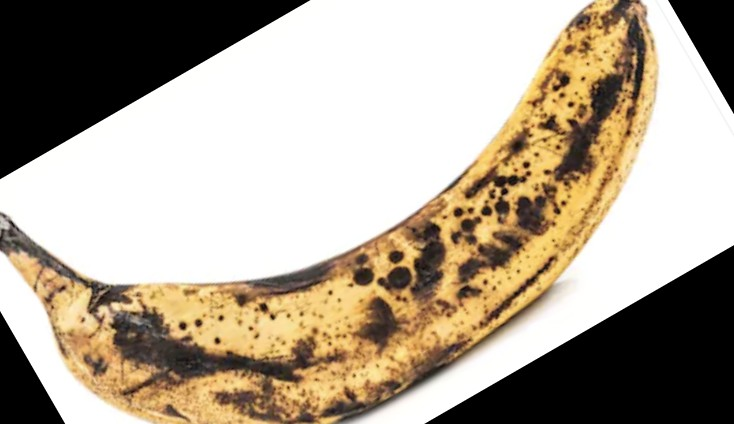rotten_banana: (1, 3, 660, 424)
